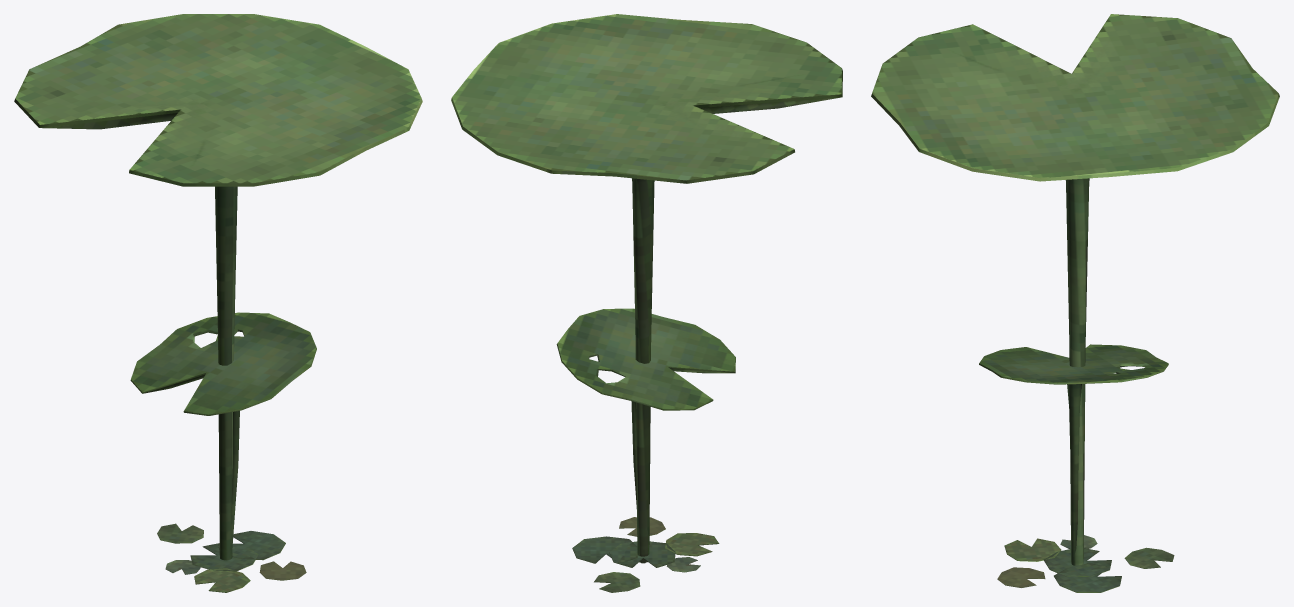
The model's file is Lilypad.fbx.
The picture shows the model from 3 angles, left to right: view 1: azimuth 30°, elevation 25°; view 2: azimuth 150°, elevation 25°; view 3: azimuth 270°, elevation 25°; orthographic projection.
Visible parts, largest first — view 1: LilypadLarge2, LilypadLarge1, LilypadCluster1, LilypadSmall1; view 2: LilypadLarge2, LilypadLarge1, LilypadCluster1, LilypadSmall1; view 3: LilypadLarge2, LilypadLarge1, LilypadCluster1, LilypadSmall1.
Boxes of the visible parts, x1=… form: LilypadLarge2: x1=14, y1=14, x2=422, y2=560; LilypadLarge1: x1=130, y1=312, x2=316, y2=559; LilypadCluster1: x1=157, y1=523, x2=306, y2=592; LilypadSmall1: x1=190, y1=543, x2=258, y2=571; LilypadLarge2: x1=451, y1=14, x2=842, y2=562; LilypadLarge1: x1=556, y1=308, x2=735, y2=563; LilypadCluster1: x1=572, y1=517, x2=719, y2=592; LilypadSmall1: x1=609, y1=541, x2=675, y2=567; LilypadLarge2: x1=871, y1=14, x2=1279, y2=565; LilypadLarge1: x1=979, y1=344, x2=1168, y2=564; LilypadCluster1: x1=997, y1=535, x2=1174, y2=592; LilypadSmall1: x1=1044, y1=548, x2=1111, y2=576.
Size of the model in its own units: 788 by 1059 by 825.
